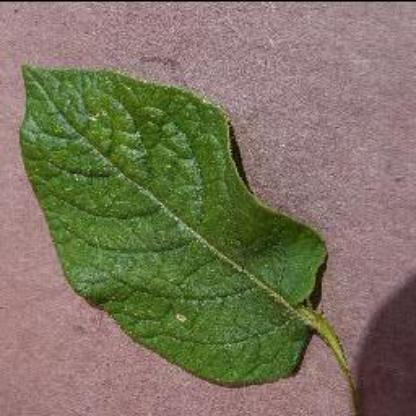Healthy-plant: (6, 41, 352, 387)
